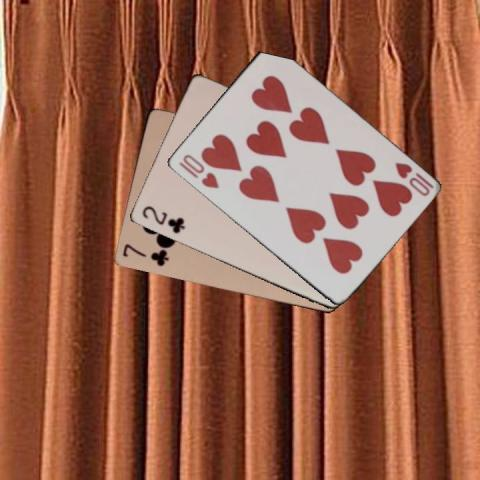10h: (175, 151, 220, 190), (391, 159, 435, 198)
2c: (139, 203, 186, 235)
7c: (119, 241, 170, 268)
